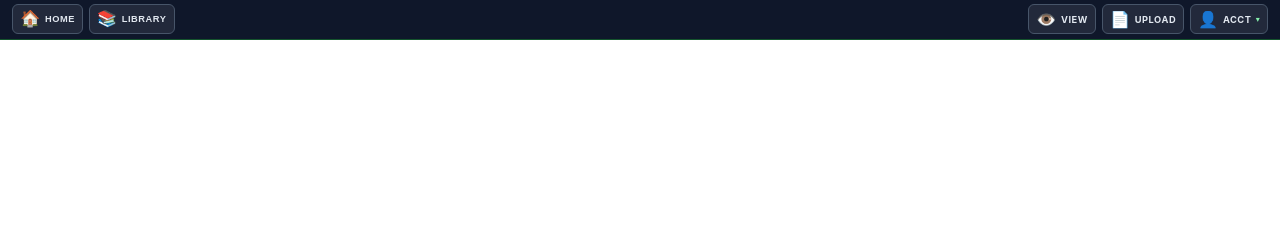
Test: GuestIdentityBanner › exposes share in View menu on /visualize when sharePayload is set
The width and height of the screenshot is (1280, 237).
Step 1. Click the button "👁️ View" → (1062, 19), box x1=1028 y1=4 x2=1096 y2=34
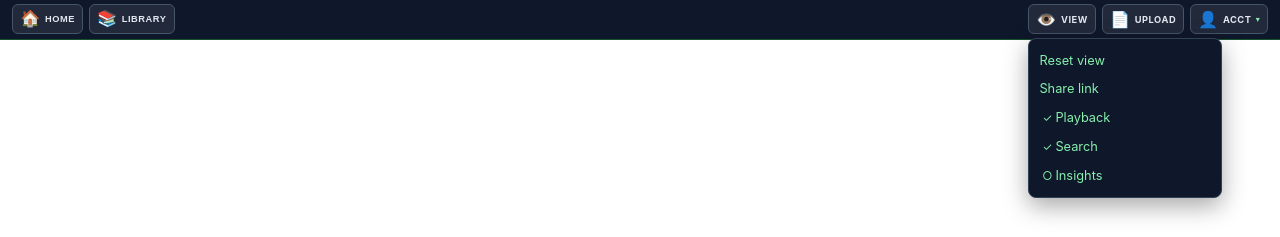
expect the menu item with aria-label "copy read-only share link to clipboard" is shown: met, box x1=1029 y1=75 x2=1221 y2=104
